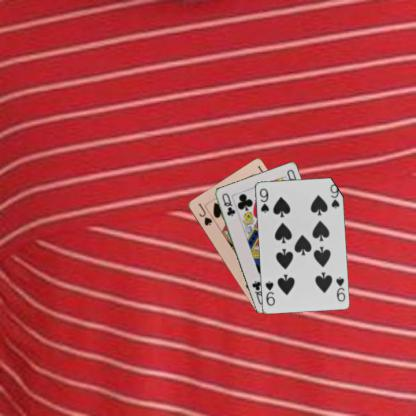9s: (256, 185, 270, 214), (333, 274, 346, 303)
Js: (195, 201, 213, 227)
Qc: (219, 191, 236, 217)
